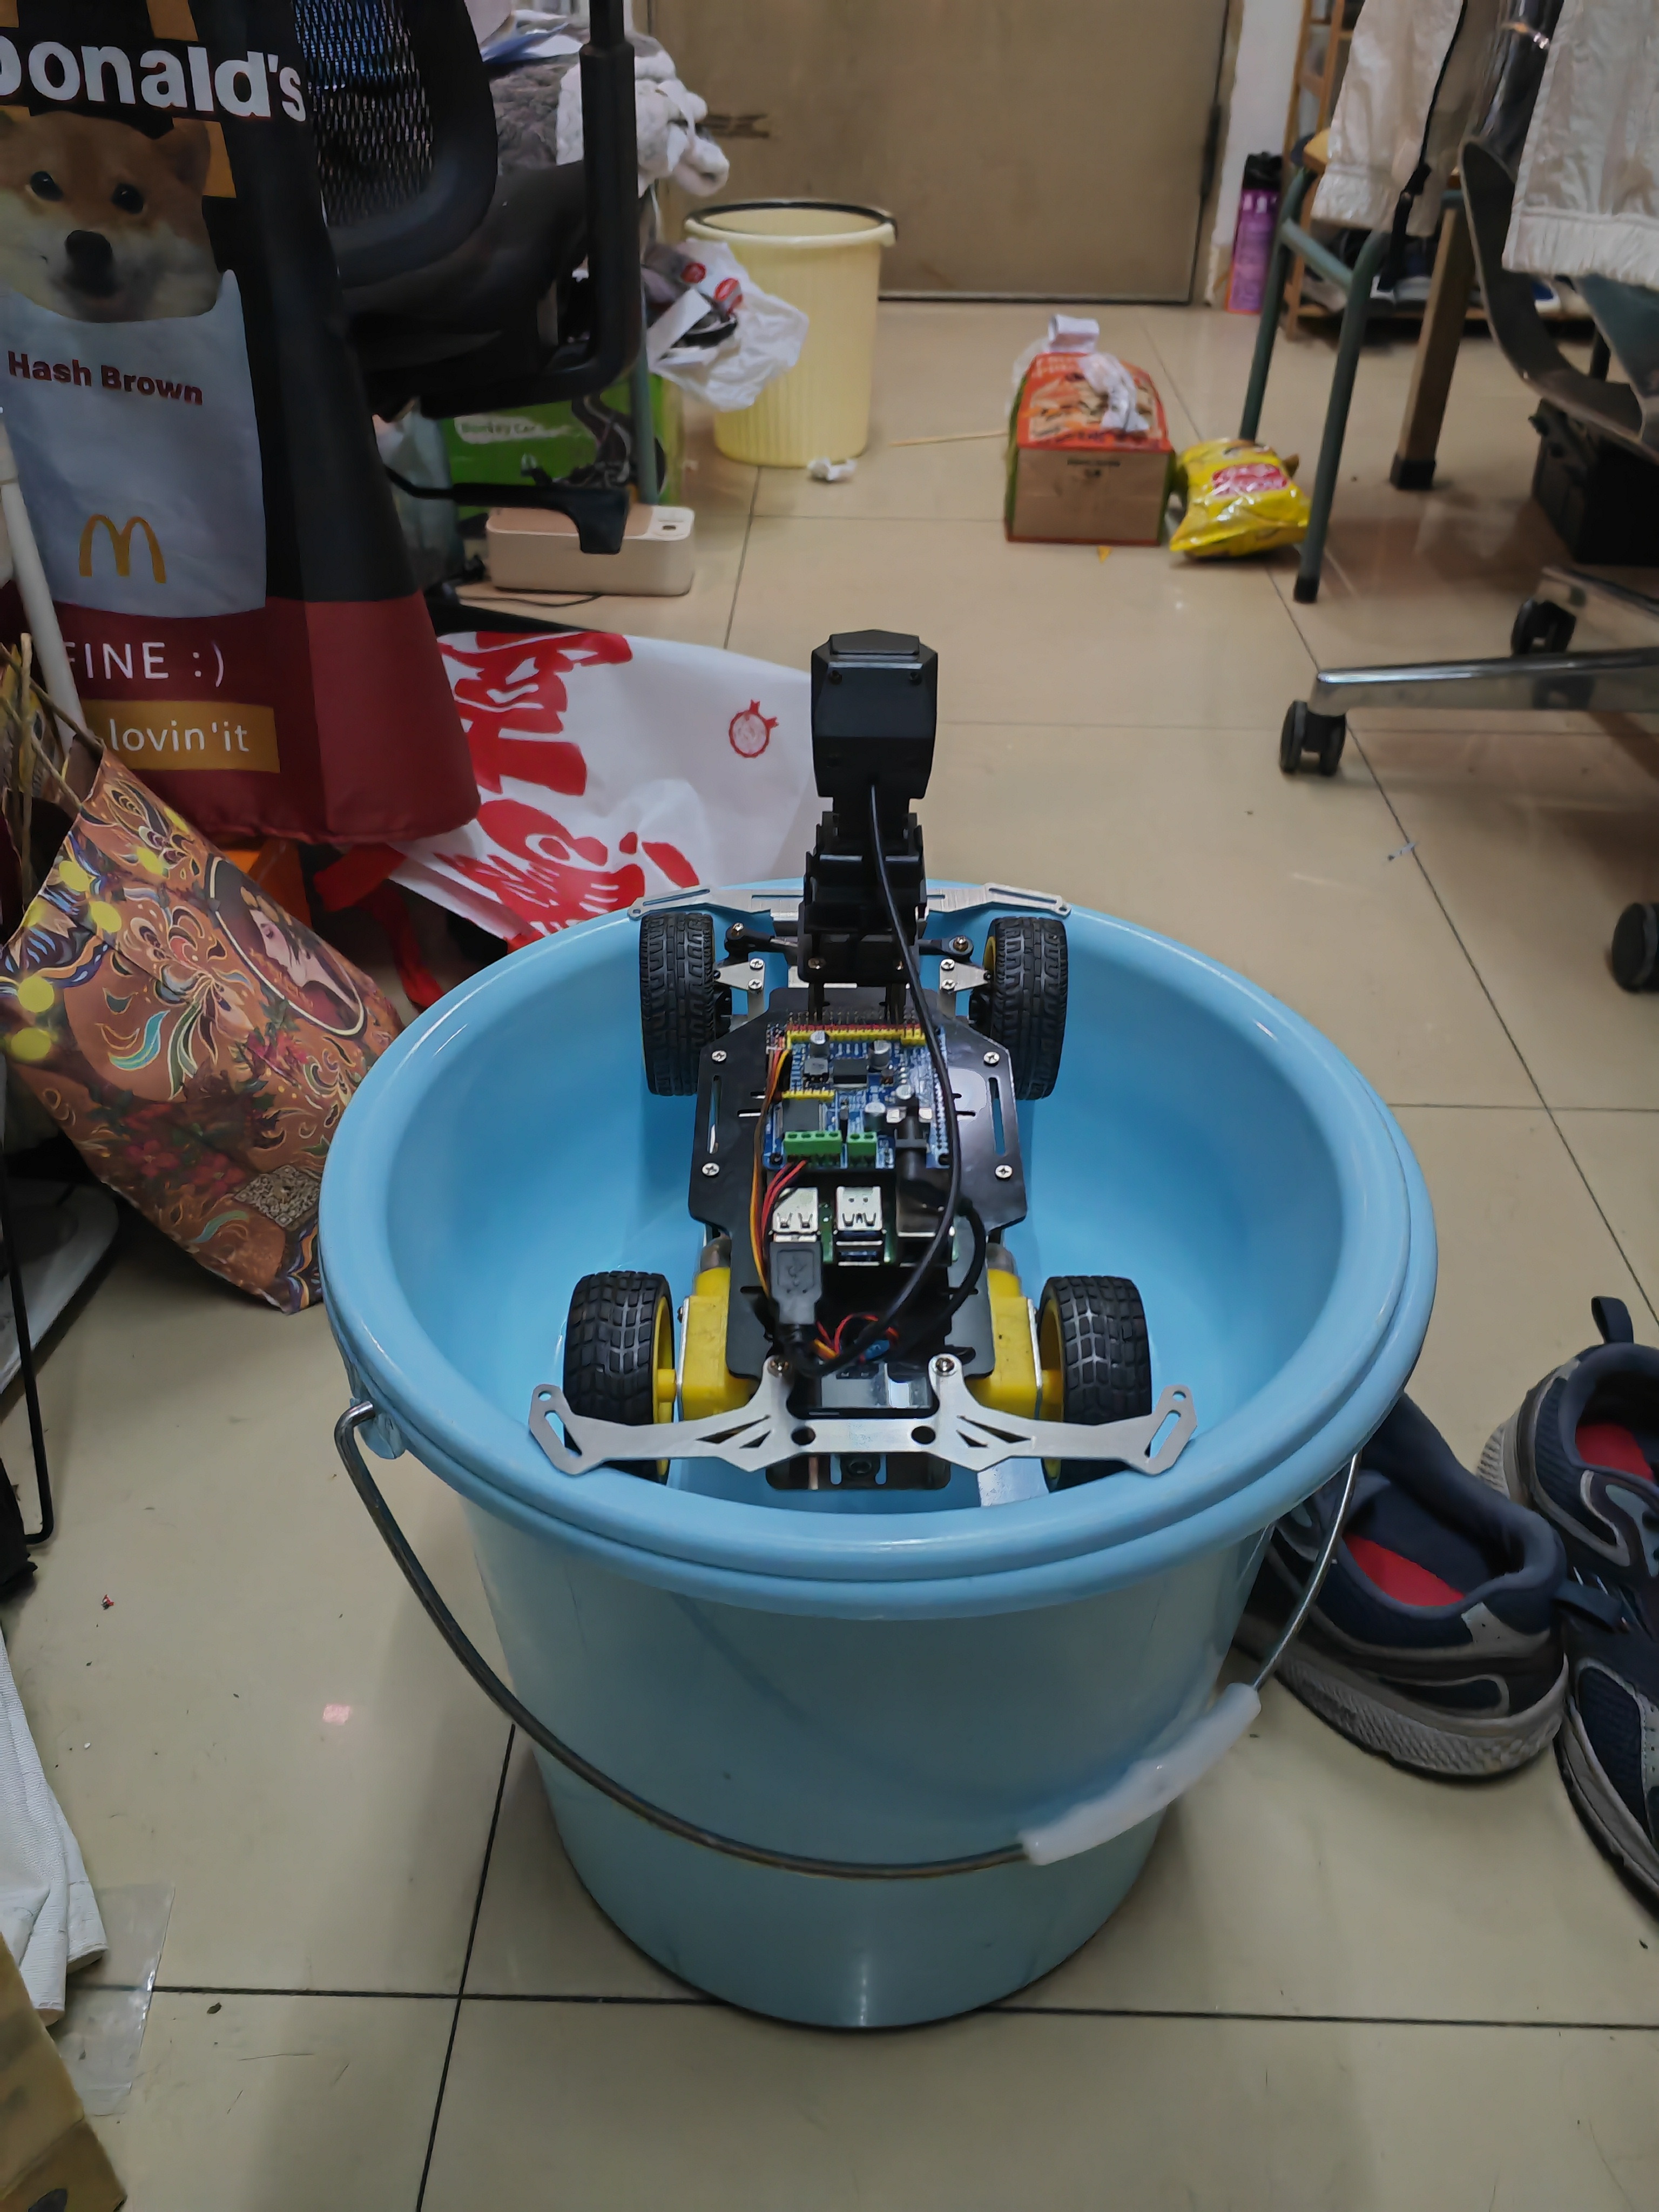car: (525, 604, 1188, 1521)
